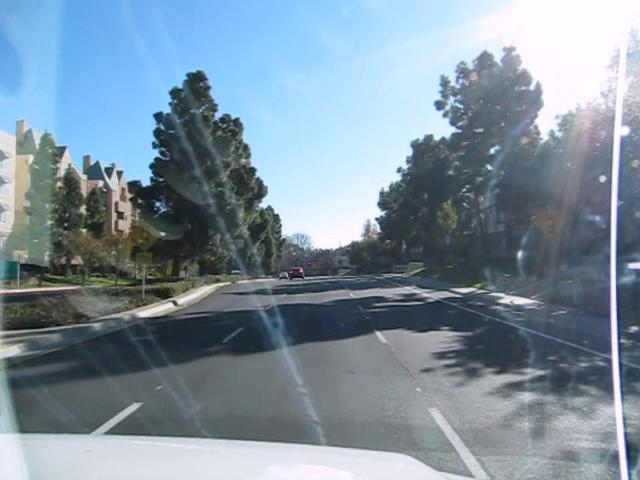signalAhead: (152, 223, 181, 252)
